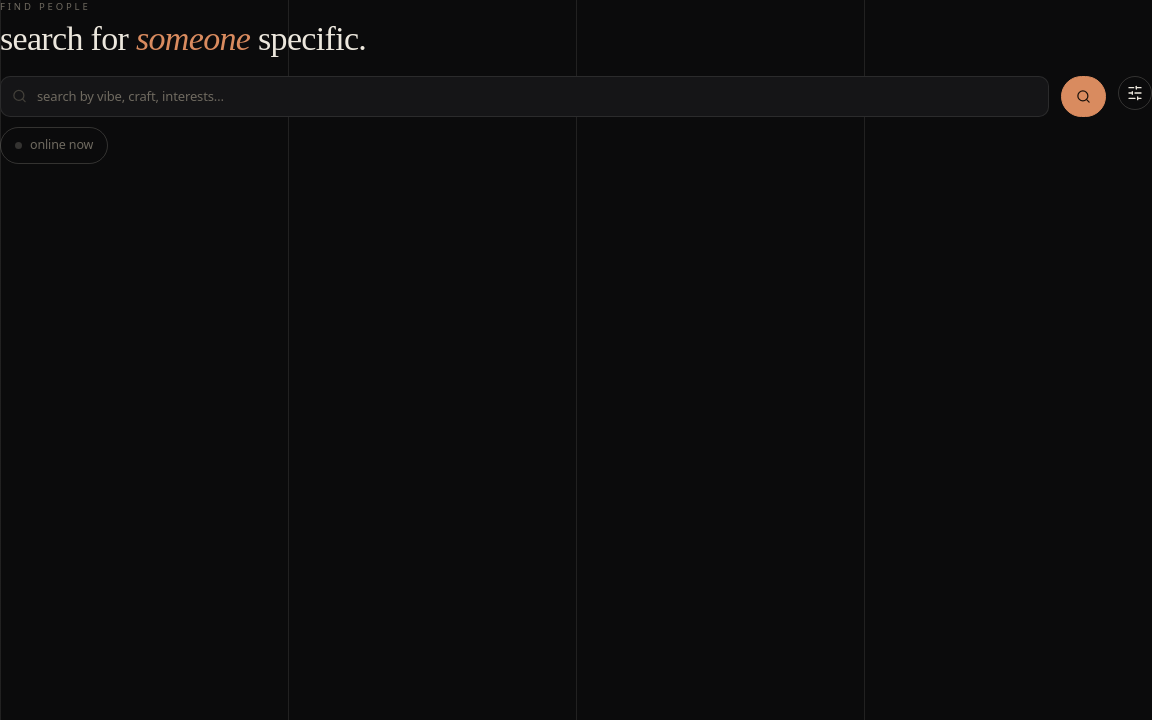
Test: search page filters modal › closes the modal and runs the search on apply
The image size is (1152, 720).
Step 1. Click the button titled "filters" → click(1135, 93), box [1118, 76, 1151, 110]
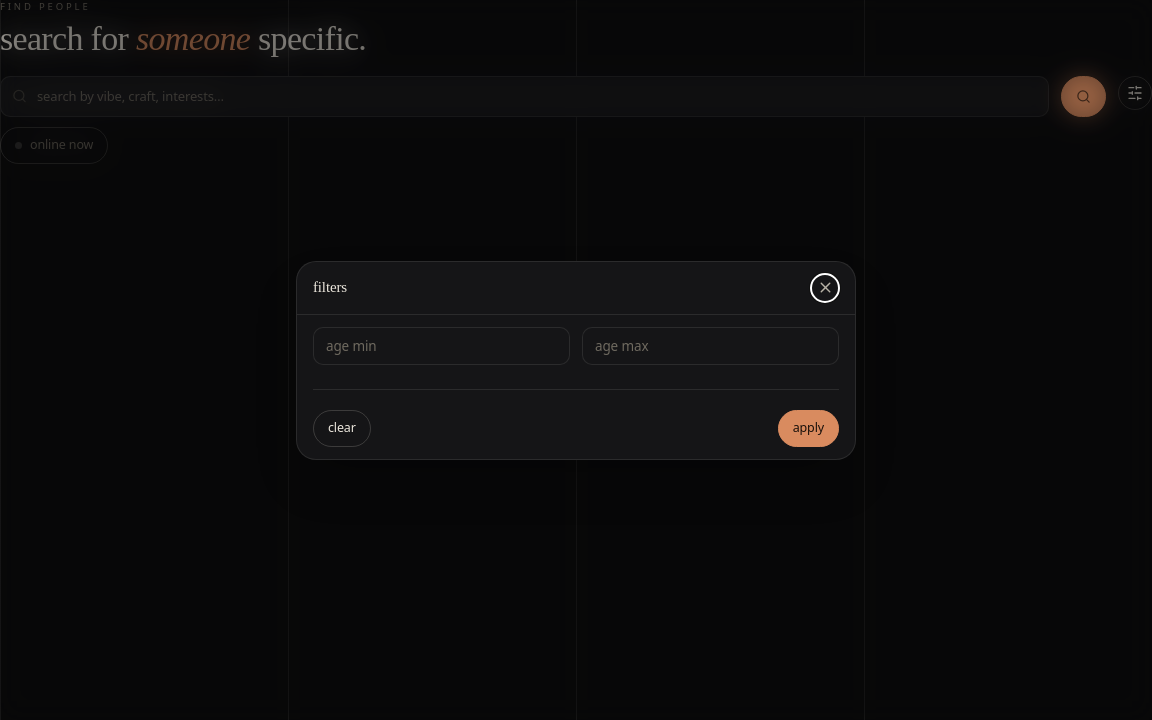
Step 2. Click the button "apply" → click(808, 428), box [778, 410, 839, 447]
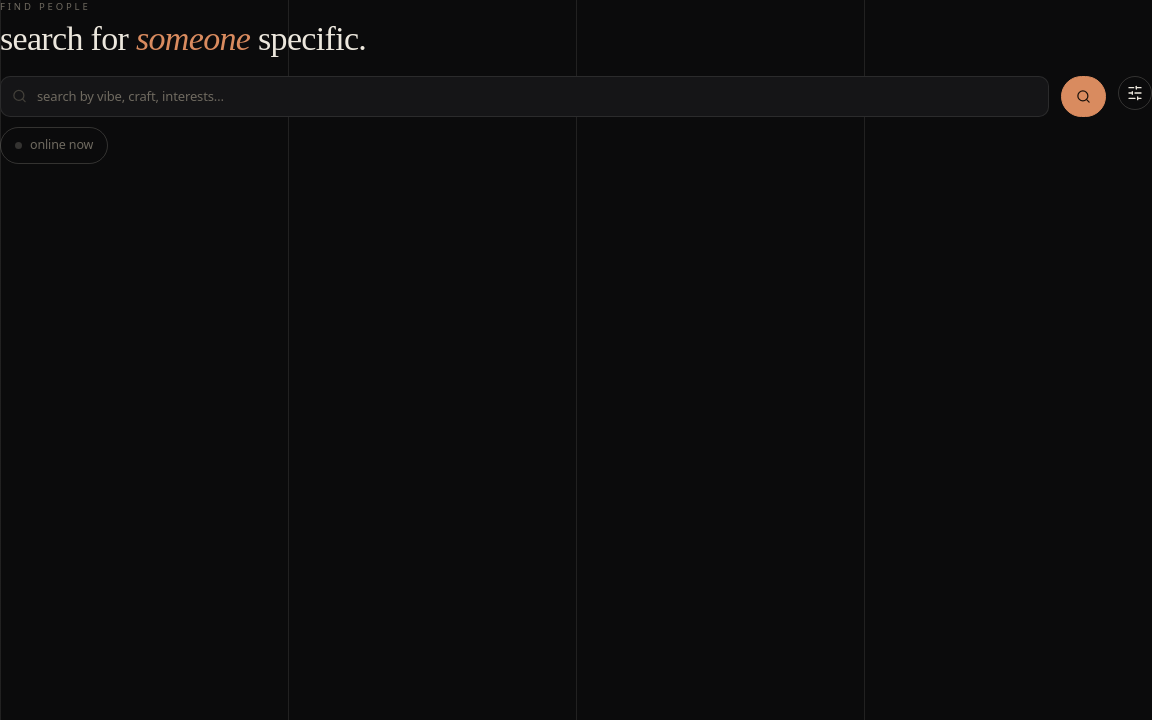
expect the dialog is gone: met
